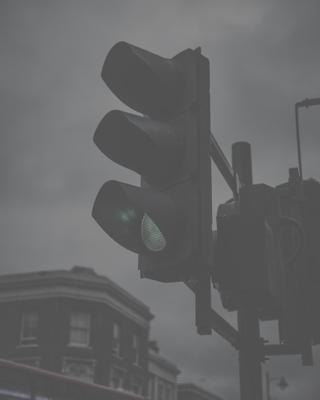International Road Signal Light: (90, 44, 206, 280)
